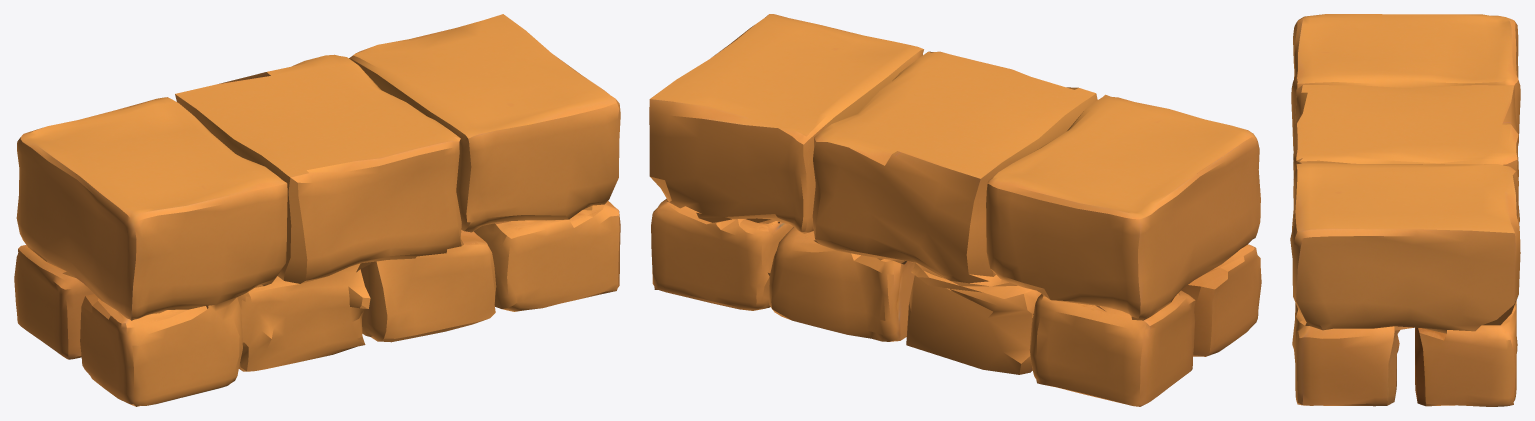
Rendered from brick_double_sandstone.glb.
The picture shows the model from 3 angles, left to right: view 1: azimuth 30°, elevation 25°; view 2: azimuth 150°, elevation 25°; view 3: azimuth 270°, elevation 25°; orthographic projection. The views are drawn at different scales.
Visible parts, largest first — view 1: Mesh_0; view 2: Mesh_0; view 3: Mesh_0.
Part boxes in pixels (<box>): Mesh_0: <box>14,14,620,406</box>; Mesh_0: <box>649,14,1261,406</box>; Mesh_0: <box>1290,14,1520,406</box>.
Bounding box in the file's own units: 1.9 × 0.7054 × 0.8302.
1 material, 1 textured.
